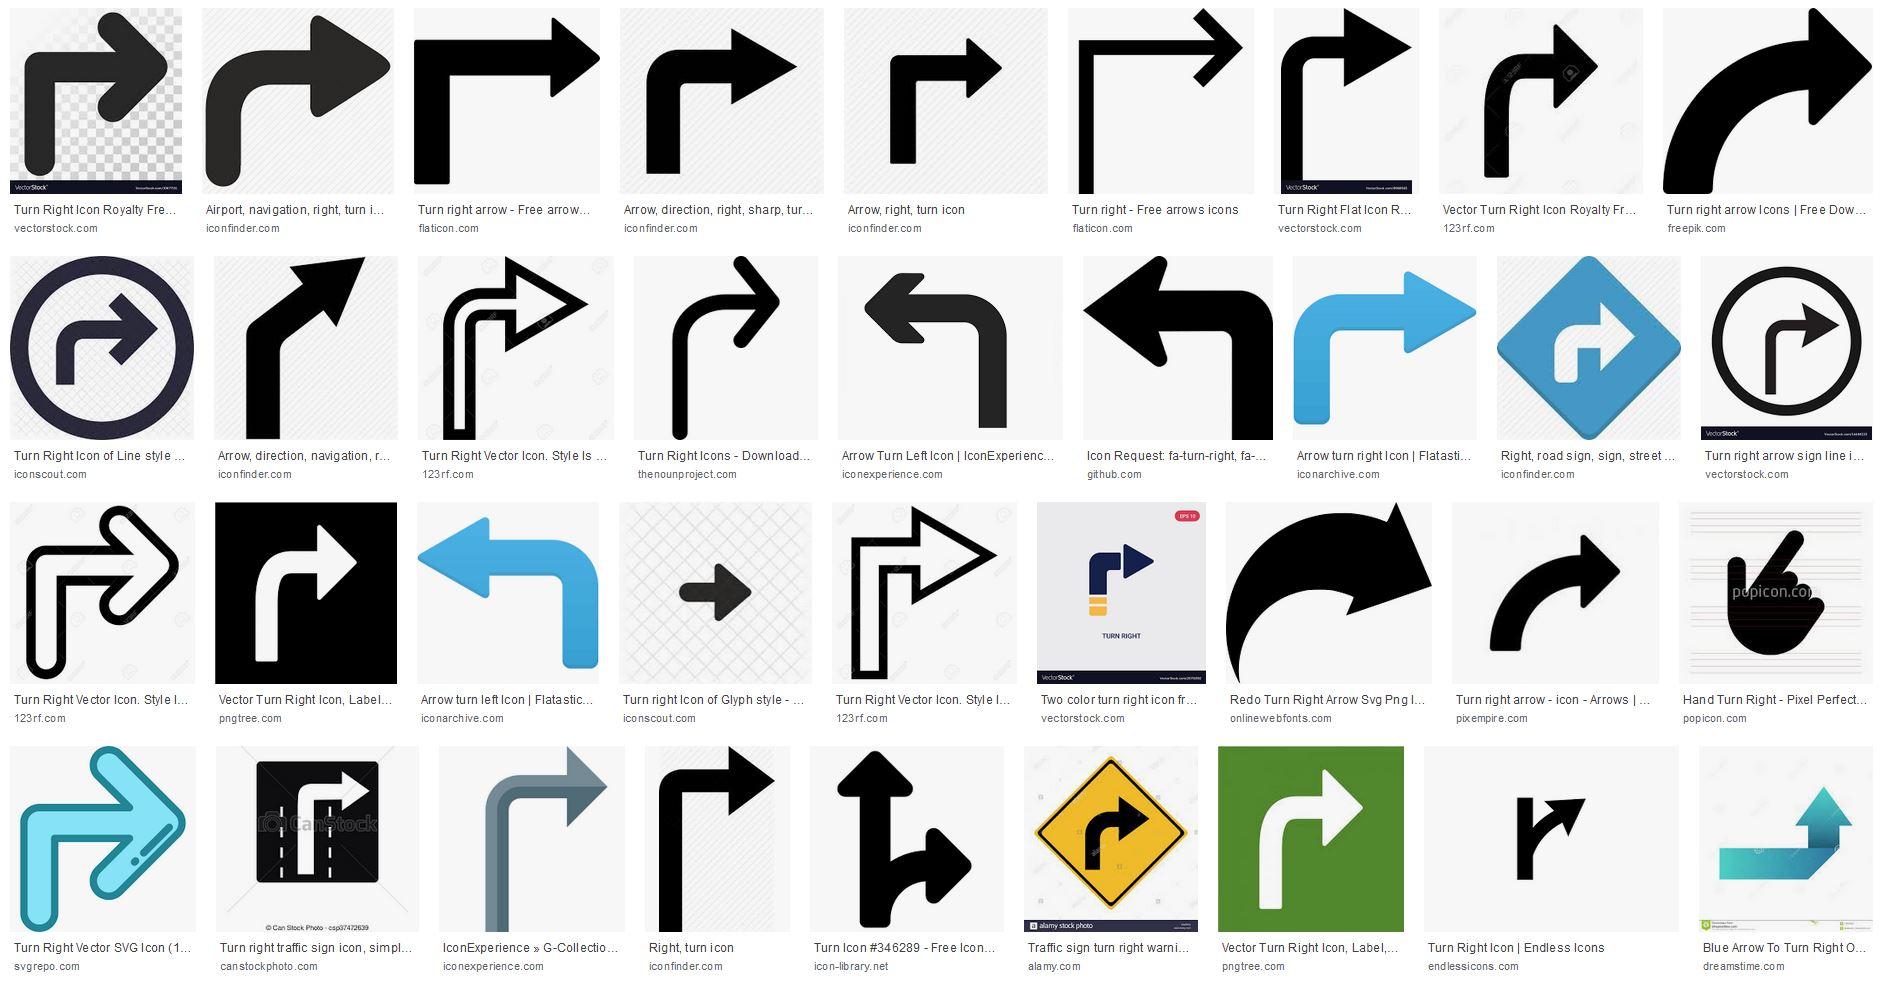turn_left: (1079, 253, 1279, 443), (415, 513, 606, 678), (857, 268, 1019, 432)
turn_right: (1659, 6, 1876, 196), (1220, 500, 1435, 686), (199, 11, 395, 188), (410, 16, 604, 187), (16, 744, 187, 934), (1075, 6, 1247, 193), (433, 255, 596, 443), (1287, 270, 1478, 427), (21, 504, 179, 685), (845, 504, 996, 686), (237, 253, 372, 443), (479, 743, 611, 937), (19, 10, 170, 176), (641, 25, 800, 178), (653, 744, 778, 937), (1274, 7, 1412, 176), (663, 255, 784, 443), (1470, 22, 1608, 185), (1485, 527, 1625, 664), (1252, 763, 1367, 916), (247, 522, 366, 666), (882, 37, 1003, 164), (54, 292, 164, 392), (293, 766, 372, 876), (1550, 300, 1637, 396), (1759, 300, 1841, 399), (1079, 793, 1153, 879)
